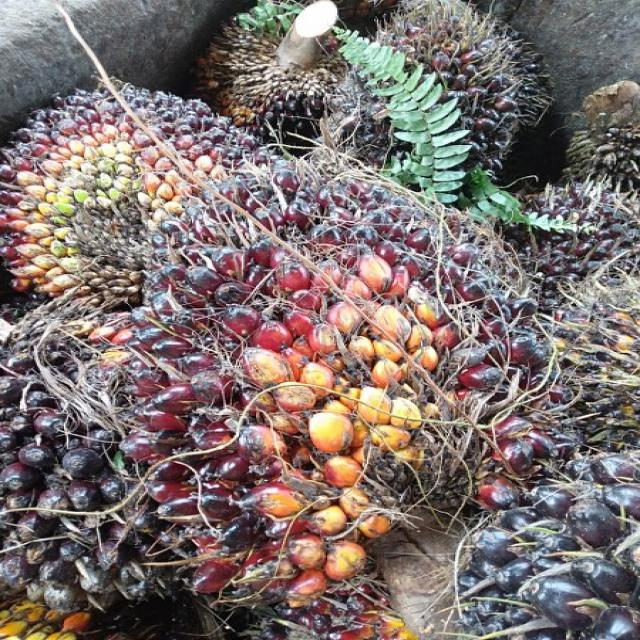fraksi 1: (76, 152, 560, 583)
